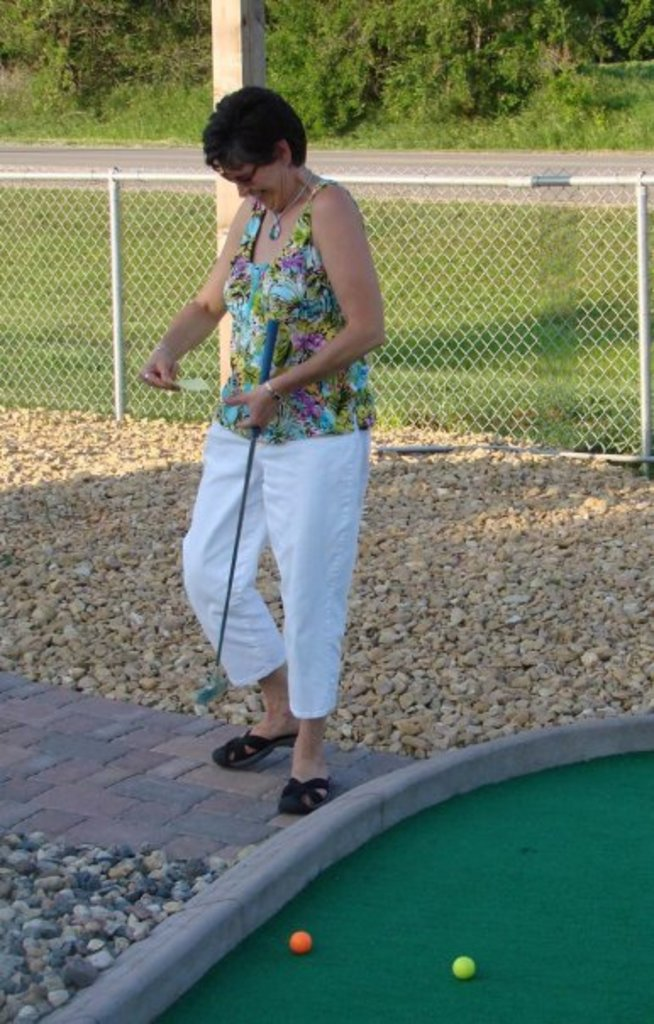Tree: (0, 0, 654, 140)
